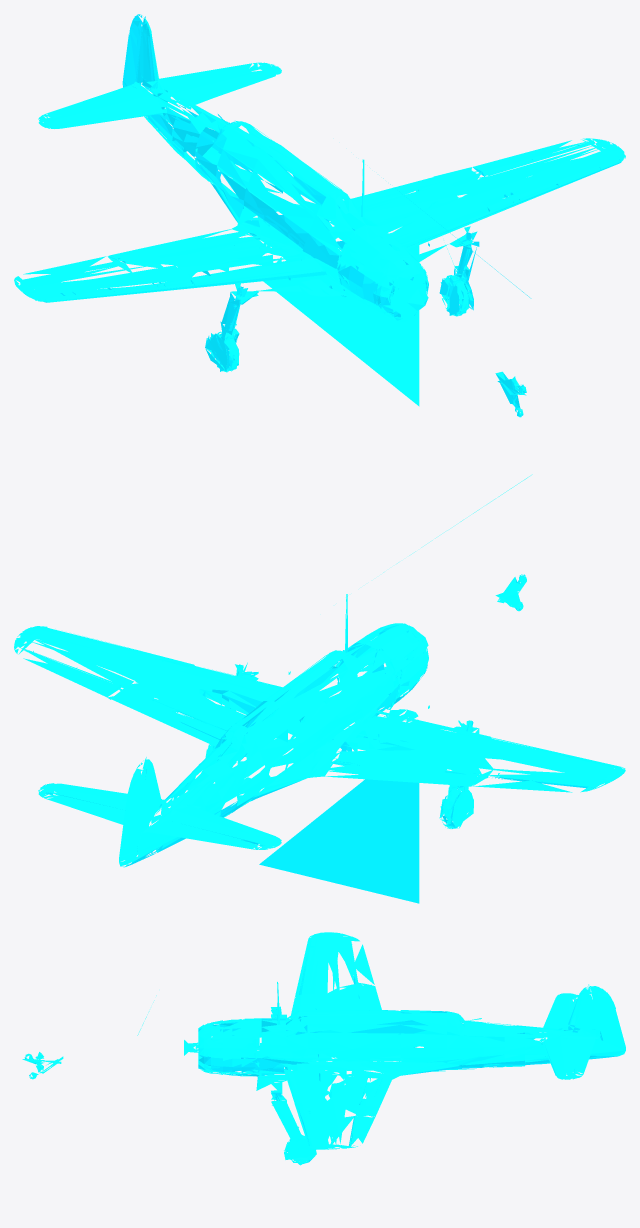
File: PJAB110.glb
3 renders of one model, top to bottom at view 1: azimuth 30°, elevation 25°; view 2: azimuth 150°, elevation 25°; view 3: azimuth 270°, elevation 25°, orthographic. The views are drawn at different scales.
Parts seen in each view (by area): view 1: misc; view 2: misc; view 3: misc.
Part boxes in pixels (<box>): misc: <box>14,14,625,417</box>; misc: <box>14,474,625,903</box>; misc: <box>22,932,625,1165</box>.
Bounding box in the file's own units: 0.8318 × 0.3688 × 0.9941.
